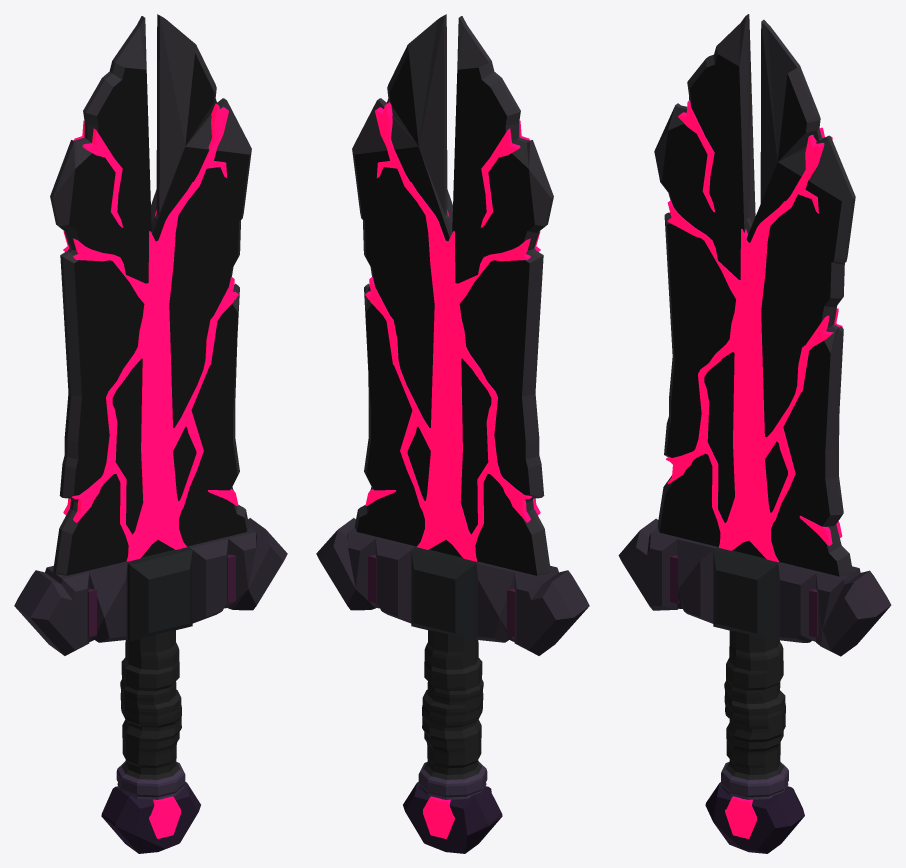
The model's file is Epic_ObsidianSword.glb.
3 views of the same model, side by side, from view 1: azimuth 30°, elevation 25°; view 2: azimuth 150°, elevation 25°; view 3: azimuth 330°, elevation 25° (orthographic).
Visible parts, largest first — view 1: Epic_ObsidianSword_Blade, Epic_ObsidianSword_Neon_Crack, Epic_ObsidianSword_BladeEdge, Epic_ObsidianSword_Grip, Epic_ObsidianSword_Guard_Center, Epic_ObsidianSword_Guard_EndL, Epic_ObsidianSword_Pommel, Epic_ObsidianSword_Guard_EndR, Epic_ObsidianSword_Guard_MidR, Epic_ObsidianSword_Guard_MidL, Epic_ObsidianSword_Collar, Epic_ObsidianSword_Pommel_Neon; view 2: Epic_ObsidianSword_Blade, Epic_ObsidianSword_Neon_Crack, Epic_ObsidianSword_BladeEdge, Epic_ObsidianSword_Grip, Epic_ObsidianSword_Guard_Center, Epic_ObsidianSword_Guard_EndL, Epic_ObsidianSword_Pommel, Epic_ObsidianSword_Guard_EndR, Epic_ObsidianSword_Guard_MidR, Epic_ObsidianSword_Guard_MidL, Epic_ObsidianSword_Collar, Epic_ObsidianSword_Pommel_Neon; view 3: Epic_ObsidianSword_Blade, Epic_ObsidianSword_Neon_Crack, Epic_ObsidianSword_BladeEdge, Epic_ObsidianSword_Grip, Epic_ObsidianSword_Guard_Center, Epic_ObsidianSword_Guard_EndR, Epic_ObsidianSword_Pommel, Epic_ObsidianSword_Guard_EndL, Epic_ObsidianSword_Guard_MidL, Epic_ObsidianSword_Guard_MidR, Epic_ObsidianSword_Collar, Epic_ObsidianSword_Pommel_Neon.
Boxes of the visible parts, x1,y1,x2,y2 form: Epic_ObsidianSword_Blade: [67, 53, 249, 575]; Epic_ObsidianSword_Neon_Crack: [63, 102, 238, 561]; Epic_ObsidianSword_BladeEdge: [50, 14, 251, 575]; Epic_ObsidianSword_Grip: [120, 630, 181, 779]; Epic_ObsidianSword_Guard_Center: [126, 546, 192, 641]; Epic_ObsidianSword_Guard_EndL: [14, 565, 89, 655]; Epic_ObsidianSword_Pommel: [101, 782, 200, 853]; Epic_ObsidianSword_Guard_EndR: [226, 518, 287, 610]; Epic_ObsidianSword_Guard_MidR: [188, 537, 228, 623]; Epic_ObsidianSword_Guard_MidL: [87, 561, 127, 642]; Epic_ObsidianSword_Collar: [116, 761, 185, 799]; Epic_ObsidianSword_Pommel_Neon: [149, 796, 180, 838]; Epic_ObsidianSword_Blade: [354, 53, 536, 575]; Epic_ObsidianSword_Neon_Crack: [365, 102, 540, 561]; Epic_ObsidianSword_BladeEdge: [352, 14, 553, 575]; Epic_ObsidianSword_Grip: [422, 630, 483, 779]; Epic_ObsidianSword_Guard_Center: [411, 546, 477, 641]; Epic_ObsidianSword_Guard_EndL: [514, 565, 589, 655]; Epic_ObsidianSword_Pommel: [403, 782, 502, 853]; Epic_ObsidianSword_Guard_EndR: [316, 518, 377, 610]; Epic_ObsidianSword_Guard_MidR: [375, 537, 415, 623]; Epic_ObsidianSword_Guard_MidL: [476, 561, 516, 642]; Epic_ObsidianSword_Collar: [418, 761, 487, 799]; Epic_ObsidianSword_Pommel_Neon: [423, 796, 454, 838]; Epic_ObsidianSword_Blade: [659, 54, 841, 576]; Epic_ObsidianSword_Neon_Crack: [666, 100, 842, 562]; Epic_ObsidianSword_BladeEdge: [654, 14, 855, 576]; Epic_ObsidianSword_Grip: [724, 630, 785, 779]; Epic_ObsidianSword_Guard_Center: [713, 547, 780, 641]; Epic_ObsidianSword_Guard_EndR: [816, 566, 891, 656]; Epic_ObsidianSword_Pommel: [705, 782, 804, 853]; Epic_ObsidianSword_Guard_EndL: [618, 518, 679, 610]; Epic_ObsidianSword_Guard_MidL: [677, 537, 717, 623]; Epic_ObsidianSword_Guard_MidR: [778, 562, 817, 642]; Epic_ObsidianSword_Collar: [721, 761, 788, 799]; Epic_ObsidianSword_Pommel_Neon: [725, 796, 756, 838].
Size of the model in its own units: 1.3 by 4 by 0.32.
